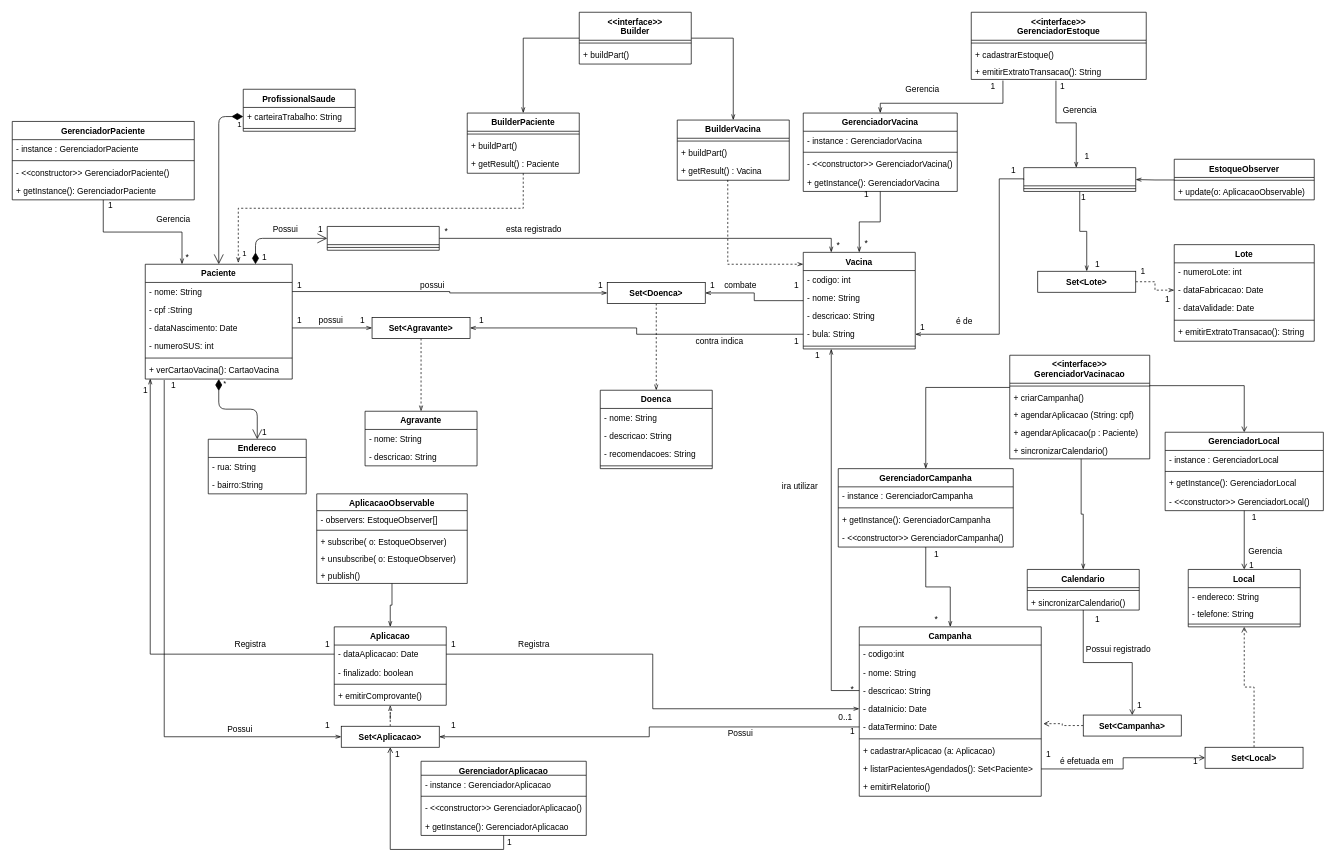
Image size: 1336x867. Some labels were removed from this diagram. The shapes that lost their labels are listed below. From the top down, each one's centre as x and y in pixels, then its label:
At (1079,179): "Estoque".
At (383,238): "CartaoVacina".
